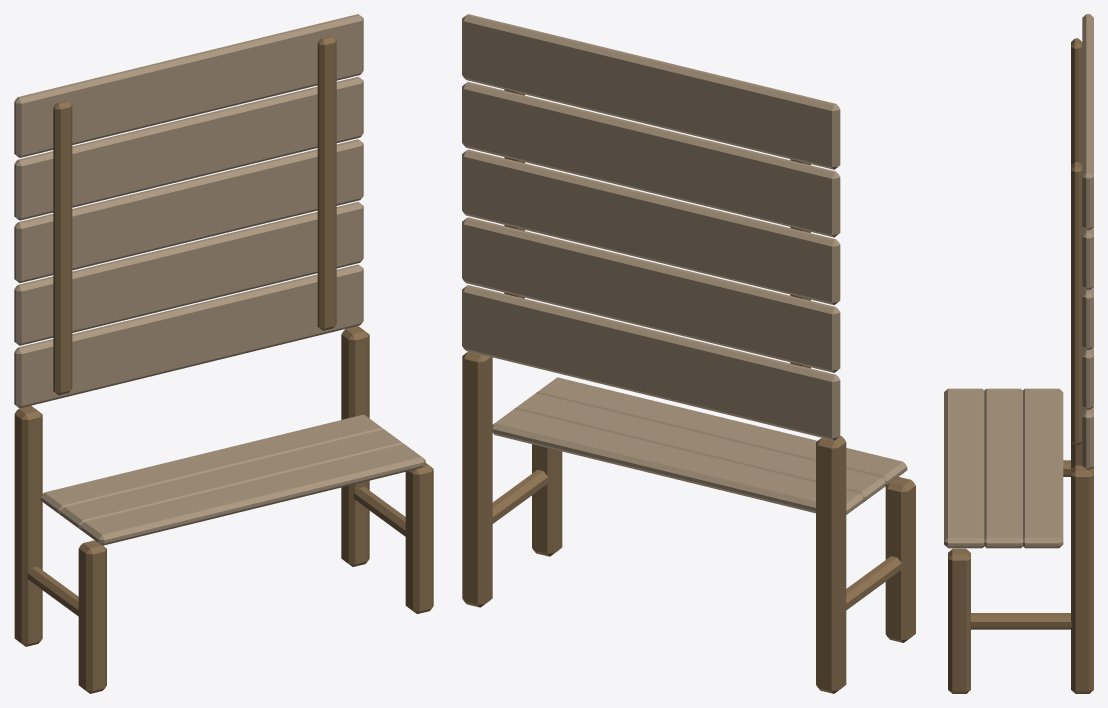
Rendered from picnic_bench_table.glb.
The picture shows the model from 3 angles, left to right: view 1: azimuth 30°, elevation 25°; view 2: azimuth 150°, elevation 25°; view 3: azimuth 270°, elevation 25°; orthographic projection. The views are drawn at different scales.
Parts seen in each view (by area): view 1: picnic_bench_table_Top, picnic_bench_table_Body; view 2: picnic_bench_table_Top, picnic_bench_table_Body; view 3: picnic_bench_table_Body, picnic_bench_table_Top.
Part boxes in pixels (x1,y1,x2,y2): picnic_bench_table_Top: (14, 14, 363, 408); picnic_bench_table_Body: (14, 326, 433, 693); picnic_bench_table_Top: (462, 14, 840, 440); picnic_bench_table_Body: (462, 351, 915, 693); picnic_bench_table_Body: (944, 388, 1093, 693); picnic_bench_table_Top: (1071, 14, 1093, 469).
Size of the model in its own units: 1 by 1.5 by 0.39.
